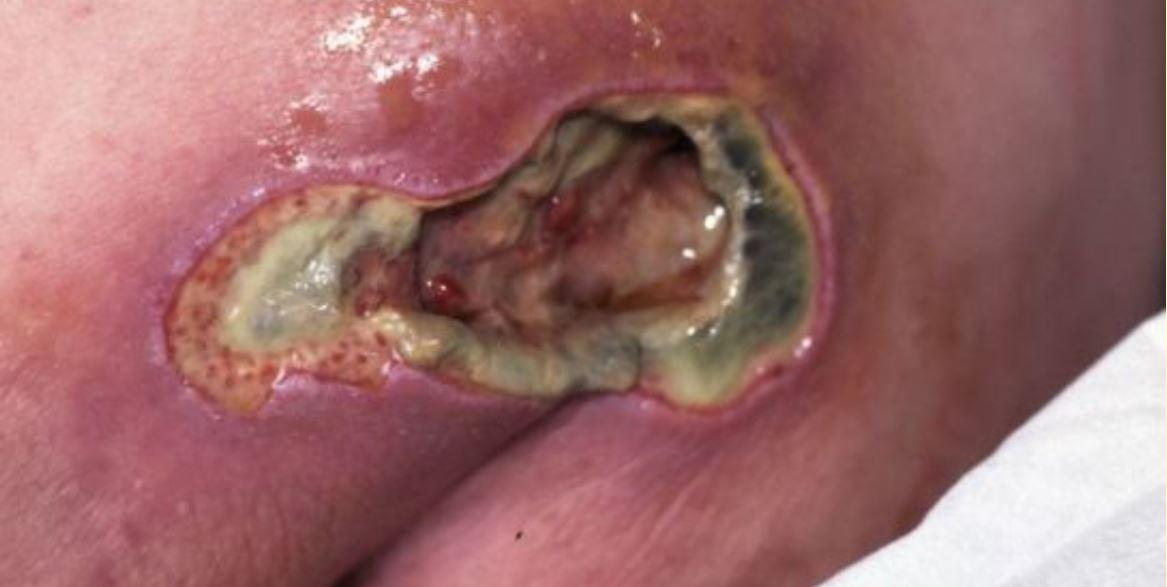Stage3: (128, 66, 879, 454)
